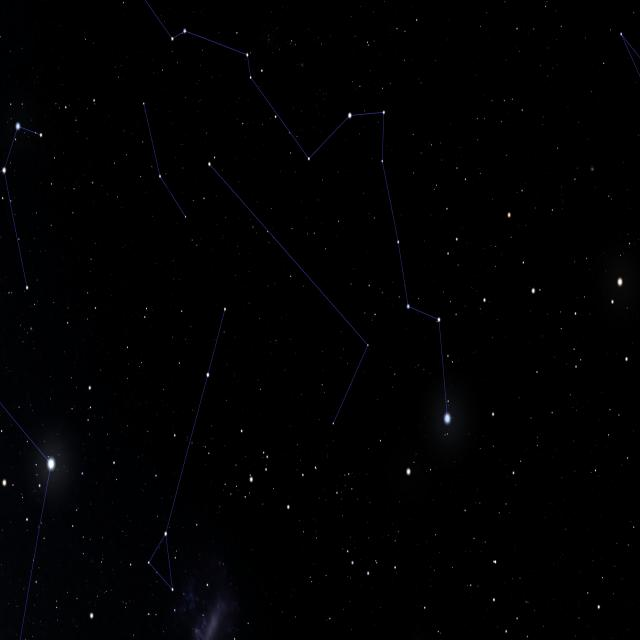Horologium: (197, 152, 377, 435)
